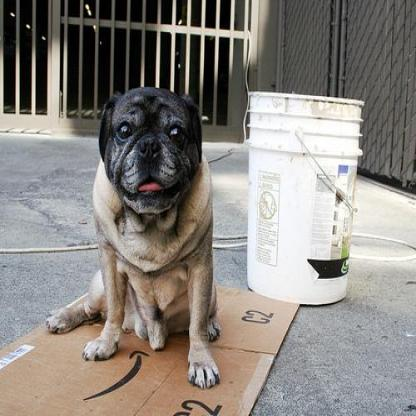pug: (44, 81, 224, 391)
